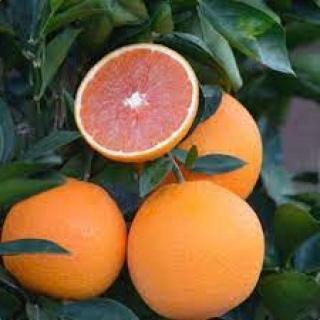orange: (104, 173, 268, 320), (6, 159, 152, 320), (72, 37, 210, 182)
